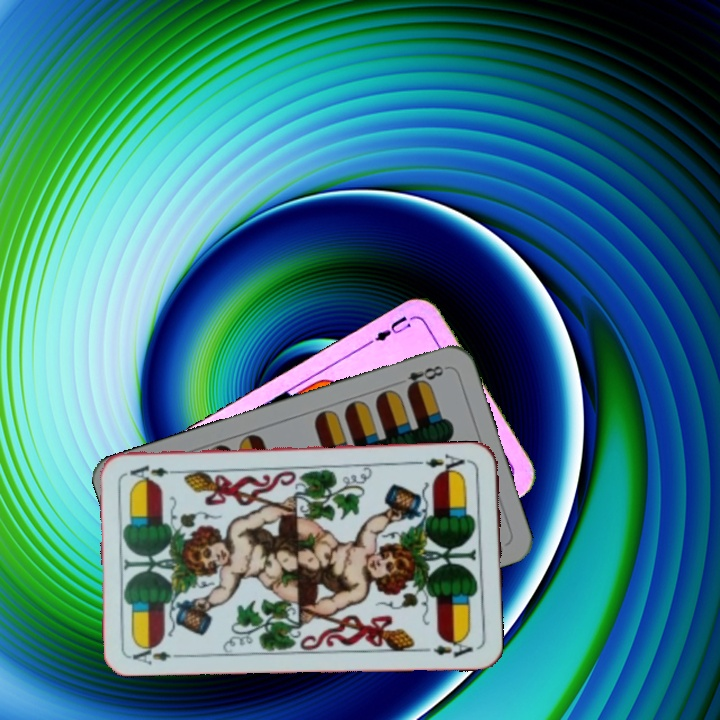E8: (402, 361, 449, 394)
EA: (414, 449, 473, 476), (128, 640, 186, 667)
EU: (371, 311, 414, 344)
